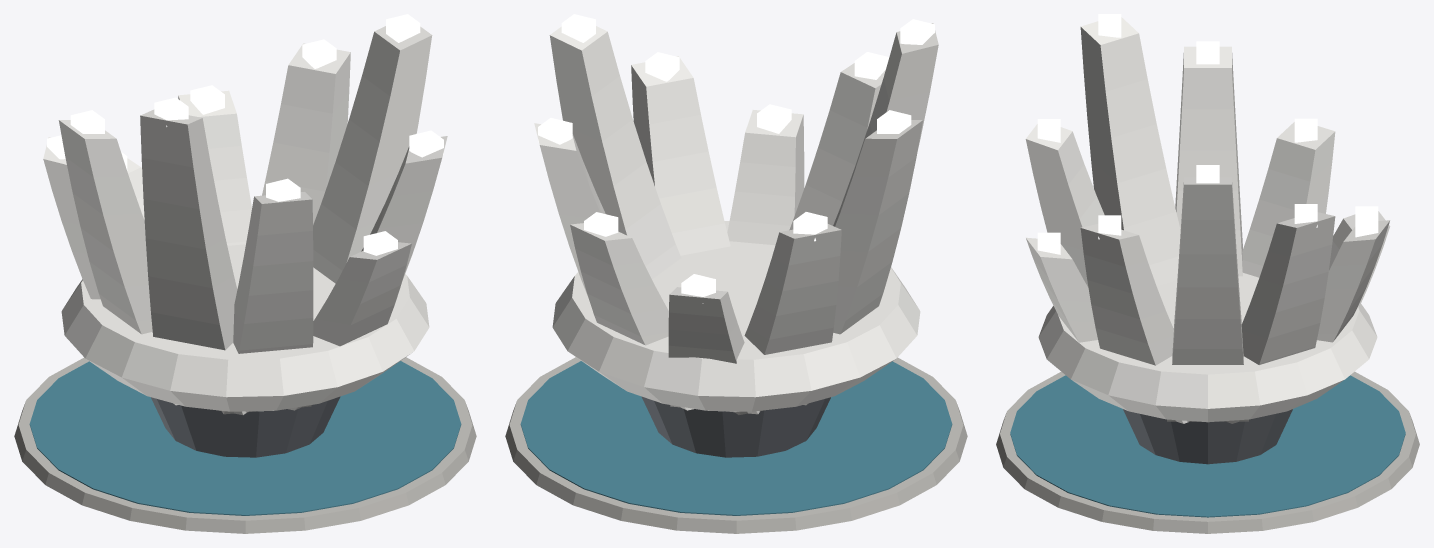
Rendered from artscience_museum.glb.
3 renders of one model, left to right at view 1: azimuth 30°, elevation 25°; view 2: azimuth 150°, elevation 25°; view 3: azimuth 270°, elevation 25°, orthographic. The views are drawn at different scales.
Parts seen in each view (by area): view 1: artscience_museum_asm_lotus_white, artscience_museum_asm_lily_pond, artscience_museum_asm_pond_stone, artscience_museum_asm_pedestal_dark, artscience_museum_asm_finger_glass; view 2: artscience_museum_asm_lotus_white, artscience_museum_asm_lily_pond, artscience_museum_asm_pond_stone, artscience_museum_asm_finger_glass, artscience_museum_asm_pedestal_dark; view 3: artscience_museum_asm_lotus_white, artscience_museum_asm_lily_pond, artscience_museum_asm_pond_stone, artscience_museum_asm_pedestal_dark, artscience_museum_asm_finger_glass.
Boxes of the visible parts, x1=… form: artscience_museum_asm_lotus_white: x1=43, y1=26, x2=447, y2=414; artscience_museum_asm_lily_pond: x1=29, y1=361, x2=461, y2=515; artscience_museum_asm_pond_stone: x1=14, y1=357, x2=476, y2=533; artscience_museum_asm_pedestal_dark: x1=151, y1=396, x2=340, y2=457; artscience_museum_asm_finger_glass: x1=47, y1=14, x2=443, y2=255; artscience_museum_asm_lotus_white: x1=534, y1=23, x2=938, y2=414; artscience_museum_asm_lily_pond: x1=520, y1=361, x2=952, y2=515; artscience_museum_asm_pond_stone: x1=505, y1=357, x2=967, y2=533; artscience_museum_asm_finger_glass: x1=538, y1=14, x2=934, y2=303; artscience_museum_asm_pedestal_dark: x1=641, y1=396, x2=830, y2=457; artscience_museum_asm_lotus_white: x1=1025, y1=17, x2=1390, y2=423; artscience_museum_asm_lily_pond: x1=1010, y1=375, x2=1405, y2=517; artscience_museum_asm_pond_stone: x1=996, y1=371, x2=1419, y2=533; artscience_museum_asm_pedestal_dark: x1=1123, y1=409, x2=1292, y2=464; artscience_museum_asm_finger_glass: x1=1037, y1=14, x2=1378, y2=254.
Size of the model in its own units: 33 by 31.65 by 33.
